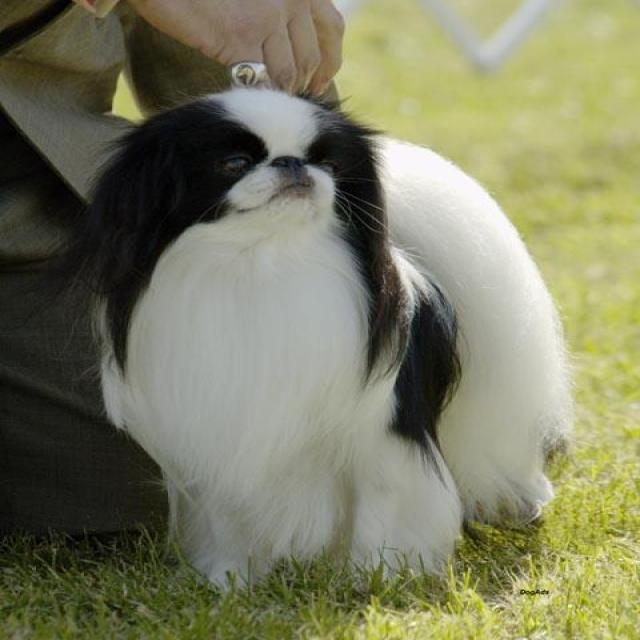husky: (83, 82, 576, 575)
